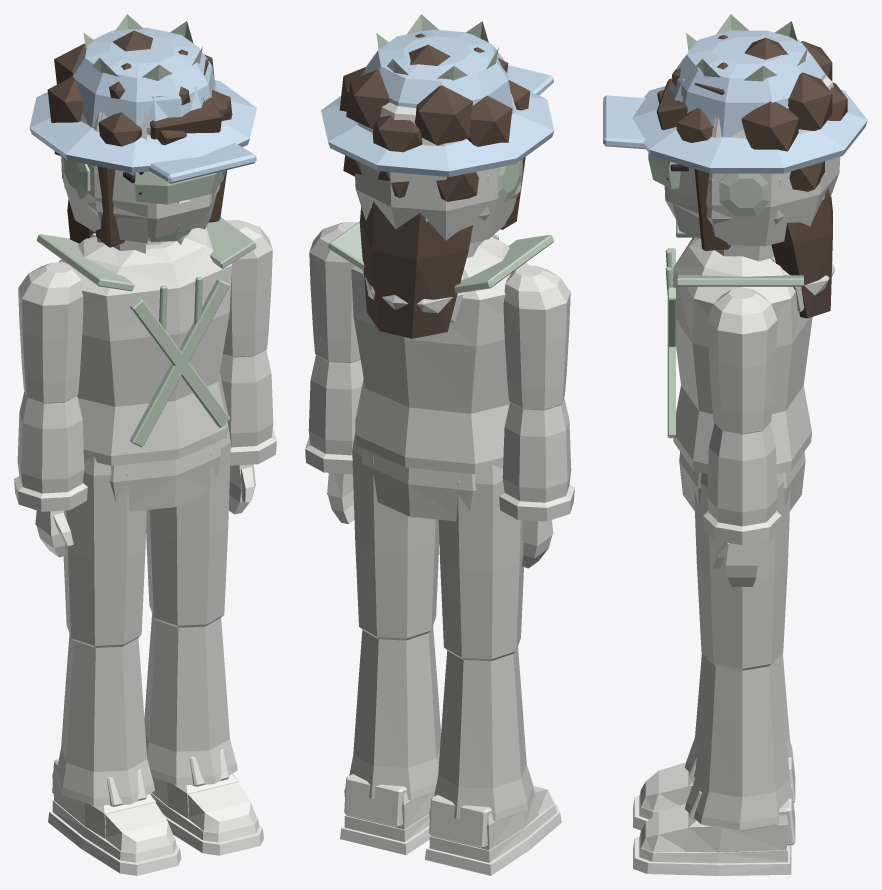
Rendered from char.glb.
3 renders of one model, left to right at view 1: azimuth 30°, elevation 25°; view 2: azimuth 150°, elevation 25°; view 3: azimuth 270°, elevation 25°, orthographic. The views are drawn at different scales.
Parts seen in each view (by area): view 1: torso, hat_panama, shinL, shinR, thighL, thighR, sleeveUL, sleeveDL, sleeveDR, sleeveUR, pelvis, hair_curly (+21 smaller); view 2: torso, hat_panama, thighL, shinL, shinR, thighR, hair_curly, hair_long, sleeveUL, sleeveDL, hat_hood, sleeveDR (+14 smaller); view 3: hat_panama, torso, shinR, thighR, sleeveUR, sleeveDR, hair_curly, hat_hood, hair_long, soleR, shoeR, hat_cap_brim (+14 smaller).
Boxes of the visible parts, x1,y1,x2,y2 form: torso: [59, 228, 232, 465]; hat_panama: [29, 27, 256, 172]; shinL: [56, 634, 154, 805]; shinR: [144, 614, 237, 785]; thighL: [63, 456, 146, 647]; thighR: [146, 426, 230, 627]; sleeveUL: [18, 262, 83, 403]; sleeveDL: [14, 391, 87, 511]; sleeveDR: [220, 349, 276, 465]; sleeveUR: [223, 220, 272, 357]; pelvis: [109, 441, 221, 511]; hair_curly: [47, 30, 232, 156]; torso: [350, 237, 528, 474]; hat_panama: [321, 29, 554, 176]; thighL: [438, 464, 523, 661]; shinL: [434, 647, 534, 820]; shinR: [349, 626, 440, 800]; thighR: [352, 433, 439, 640]; hair_curly: [339, 33, 530, 201]; hair_long: [359, 157, 525, 338]; sleeveUL: [503, 265, 570, 410]; sleeveDL: [499, 397, 574, 521]; hat_hood: [355, 94, 522, 243]; sleeveDR: [305, 355, 363, 474]; hat_panama: [632, 30, 867, 173]; torso: [672, 237, 812, 474]; shinR: [685, 656, 794, 831]; thighR: [693, 471, 791, 670]; sleeveUR: [707, 287, 777, 434]; sleeveDR: [703, 423, 781, 545]; hair_curly: [672, 35, 847, 191]; hat_hood: [669, 74, 840, 246]; hair_long: [694, 169, 832, 318]; soleR: [633, 831, 791, 875]; shoeR: [684, 784, 795, 852]; hat_cap_brim: [603, 95, 645, 149].
Bounding box in the file's own units: 0.648 × 1.9 × 0.5696.
